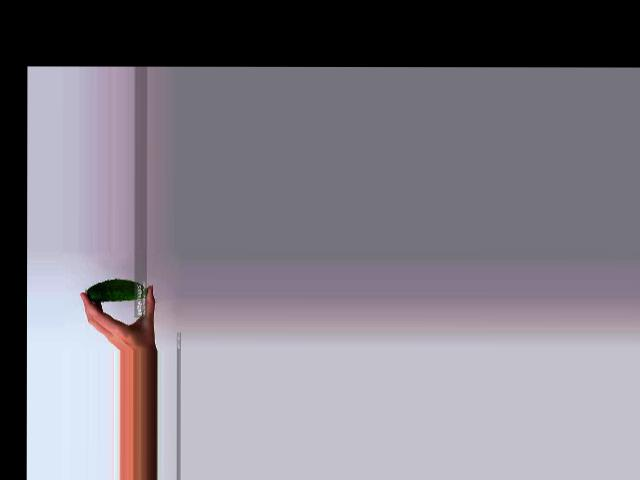cucumber: (87, 278, 147, 301)
